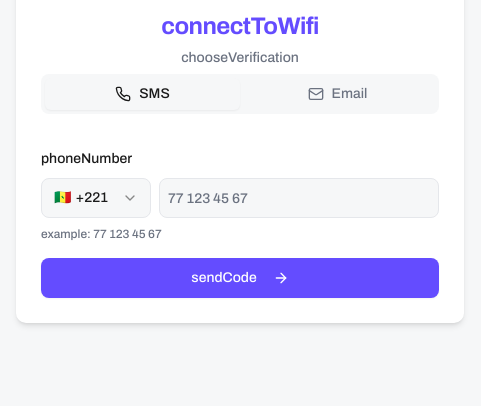
RED: échec send-otp → pas de passage à l’écran OTP (fail-closed)
Type "771234567" into the field labelled "phoneNumber" at [299, 198], box [159, 178, 439, 218]
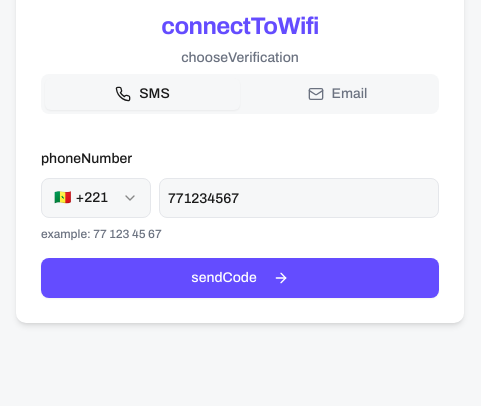
Click the button "sendCode" at [240, 278], box [41, 258, 439, 298]
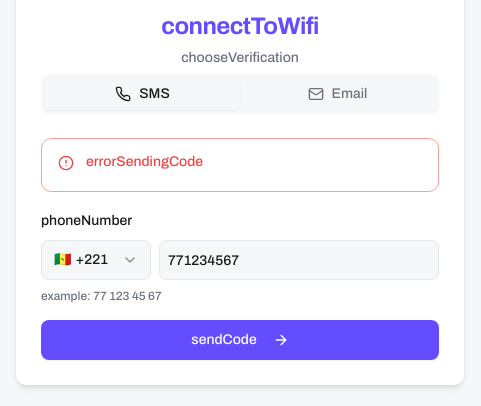
Check: the text "errorSendingCode" is shown, box [86, 154, 203, 169]
